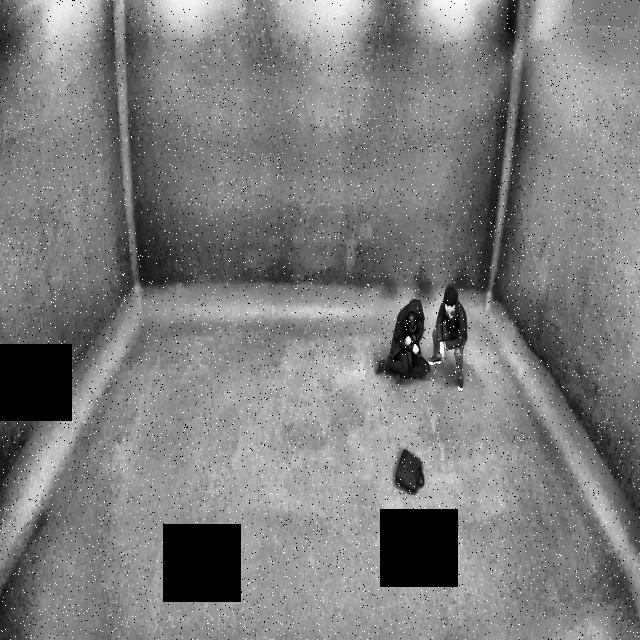assult: (370, 266, 475, 398), (380, 292, 430, 385)
